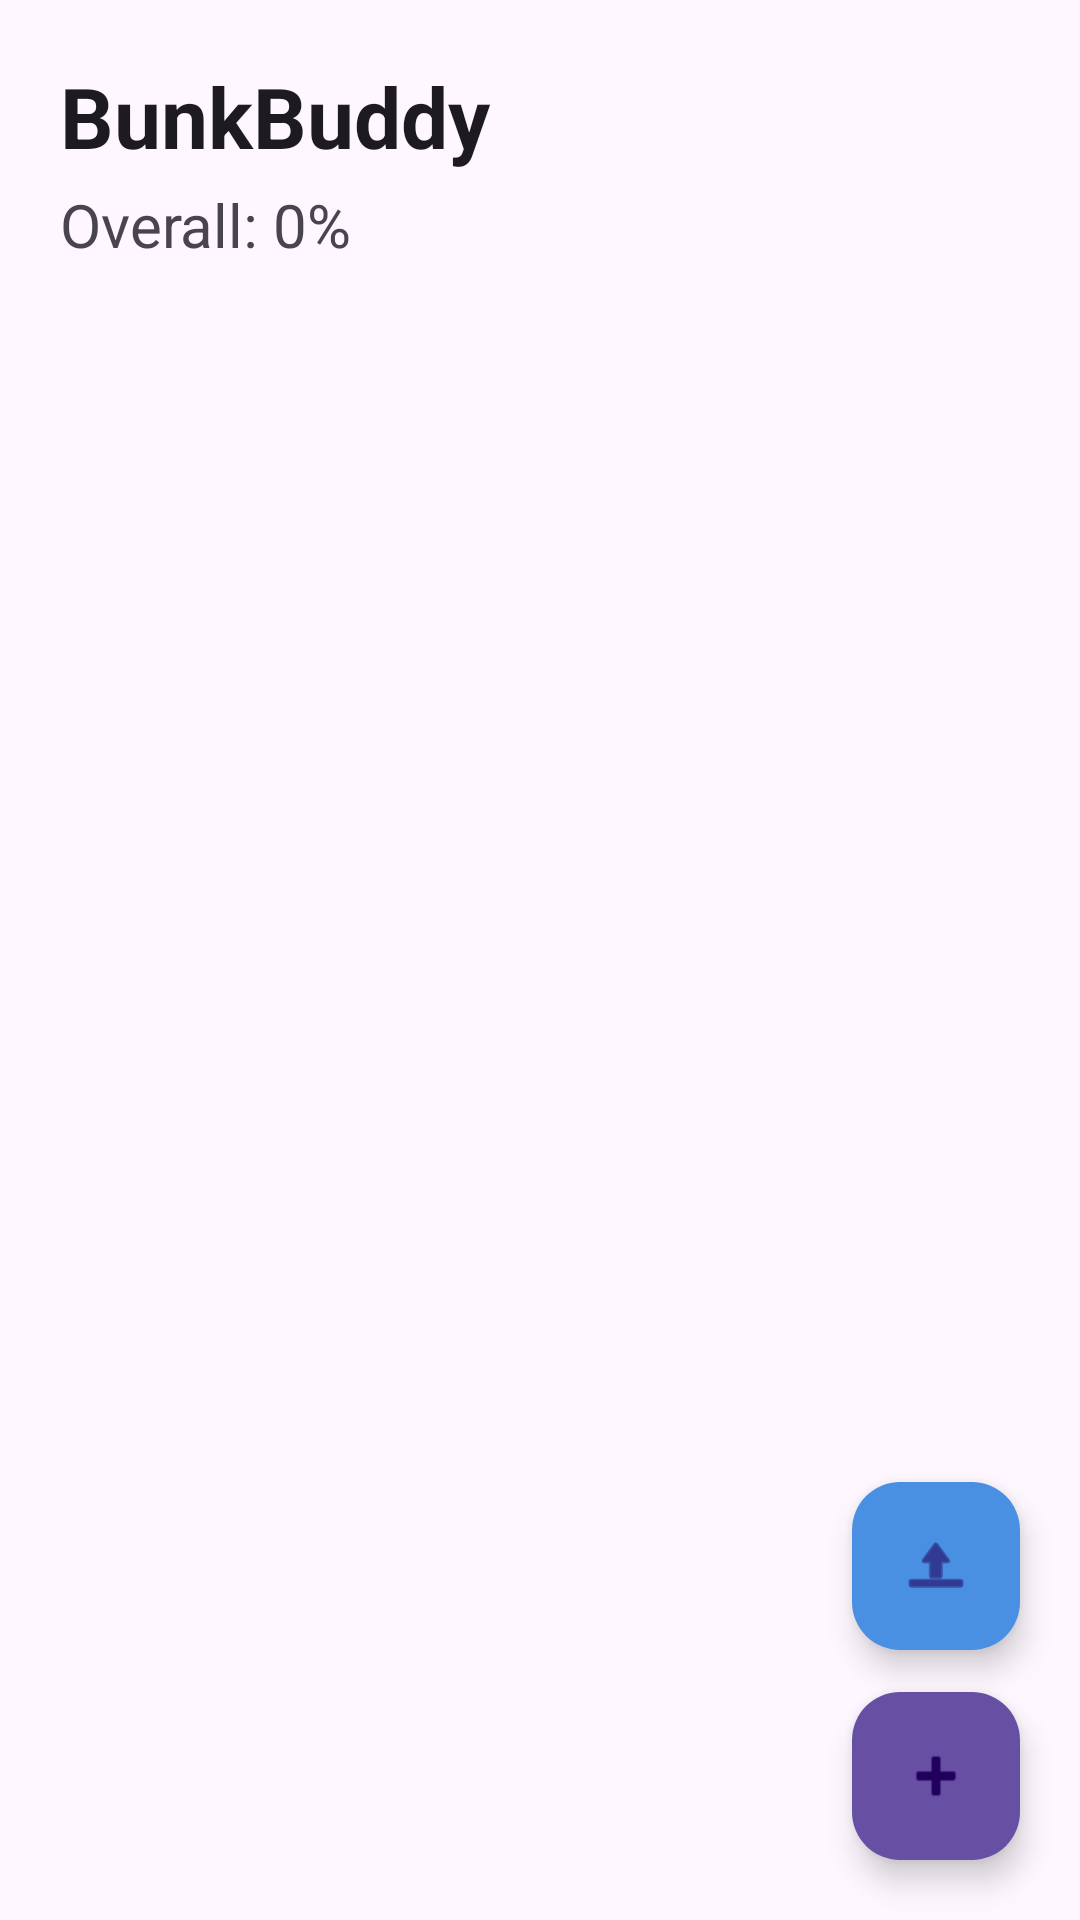

Screen size 1080*1920. Icon name, then its center in pixels as (x=x, y=y):
Add: (x=936, y=1776)
upload: (x=936, y=1566)
